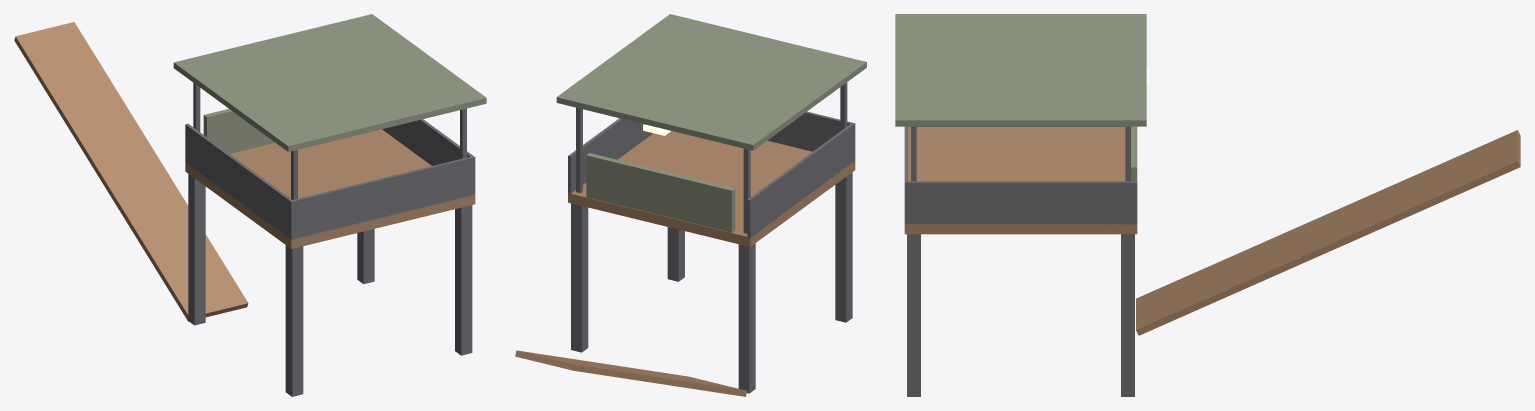
The model's file is Platform_Tower.fbx.
3 views of the same model, side by side, from view 1: azimuth 30°, elevation 25°; view 2: azimuth 150°, elevation 25°; view 3: azimuth 270°, elevation 25° (orthographic). The views are drawn at different scales.
Visible parts, largest first — view 1: Platform_Tower_Mesh; view 2: Platform_Tower_Mesh; view 3: Platform_Tower_Mesh.
Boxes of the visible parts, bbox=[...] form: Platform_Tower_Mesh: bbox=[14, 14, 486, 396]; Platform_Tower_Mesh: bbox=[515, 14, 866, 396]; Platform_Tower_Mesh: bbox=[895, 14, 1520, 396].
Size of the model in its own units: 5.4 by 13.43 by 6.74.
